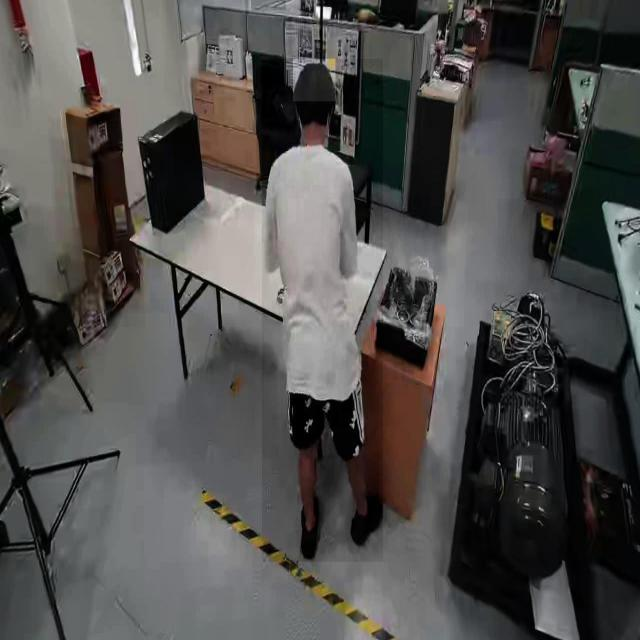head_nohelmet: (293, 59, 336, 102)
person: (262, 59, 384, 562)
shoes: (345, 490, 387, 547), (297, 485, 323, 564)
